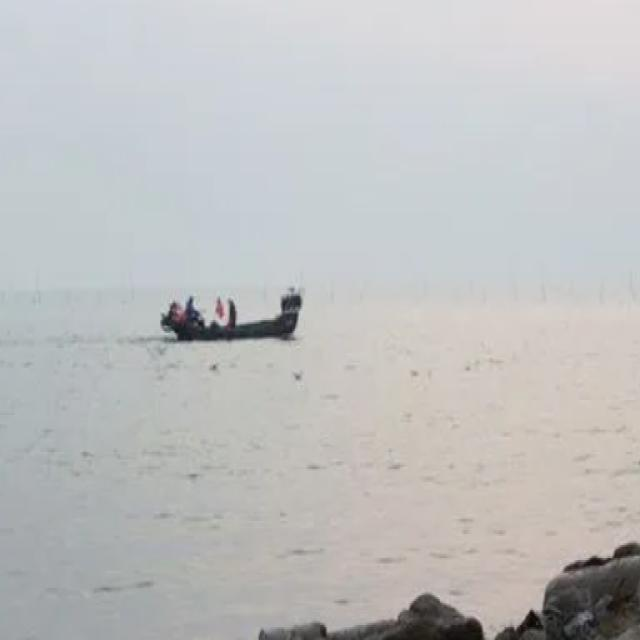fishing boat: (163, 280, 307, 346)
